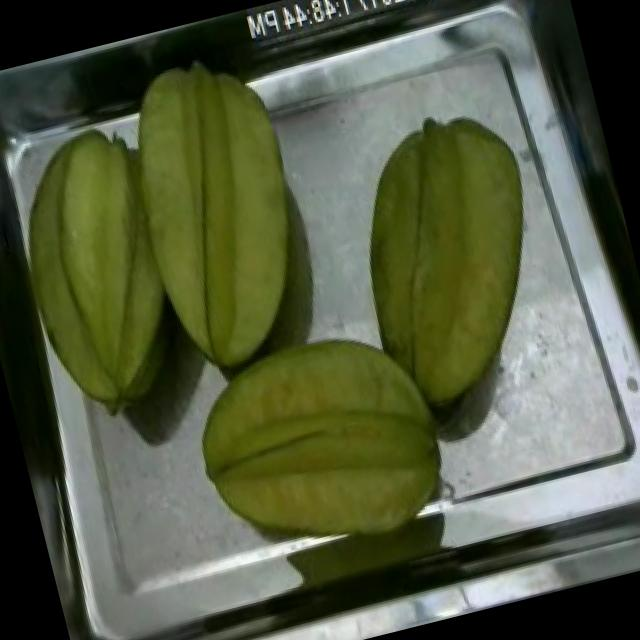fruit: (1, 33, 350, 425), (165, 298, 476, 585), (317, 94, 582, 428)
